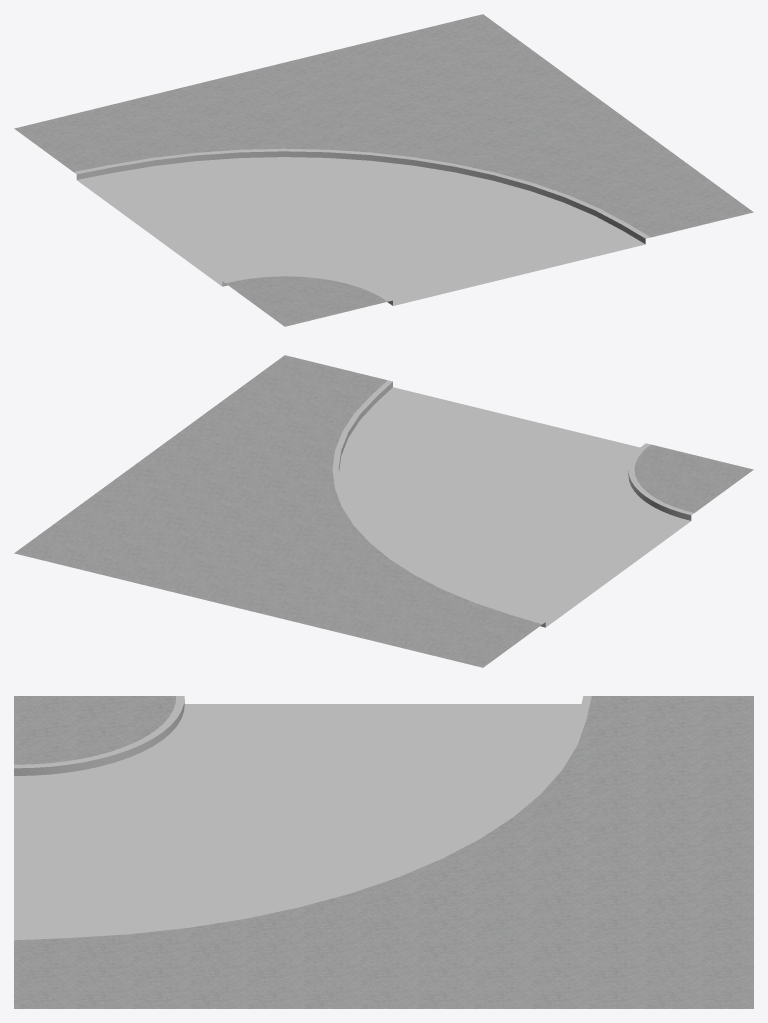
File: Road_Module04.fbx
3 views of the same model, one above another, from view 1: azimuth 30°, elevation 25°; view 2: azimuth 150°, elevation 25°; view 3: azimuth 270°, elevation 25° (orthographic). The views are drawn at different scales.
Visible parts, largest first — view 1: Road_Module04; view 2: Road_Module04; view 3: Road_Module04.
Boxes of the visible parts, x1,y1,x2,y2 form: Road_Module04: [14, 14, 753, 326]; Road_Module04: [14, 355, 753, 667]; Road_Module04: [14, 696, 753, 1008].
Size of the model in its own units: 13 by 0.15 by 13.
